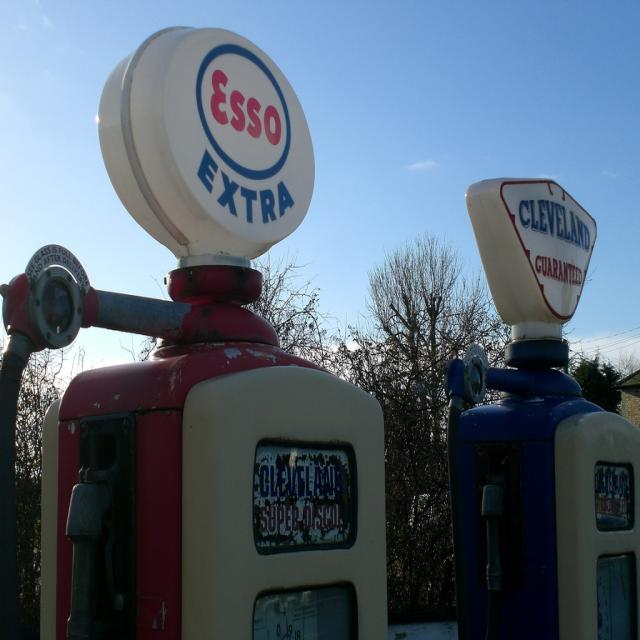esso: (192, 37, 295, 187)
